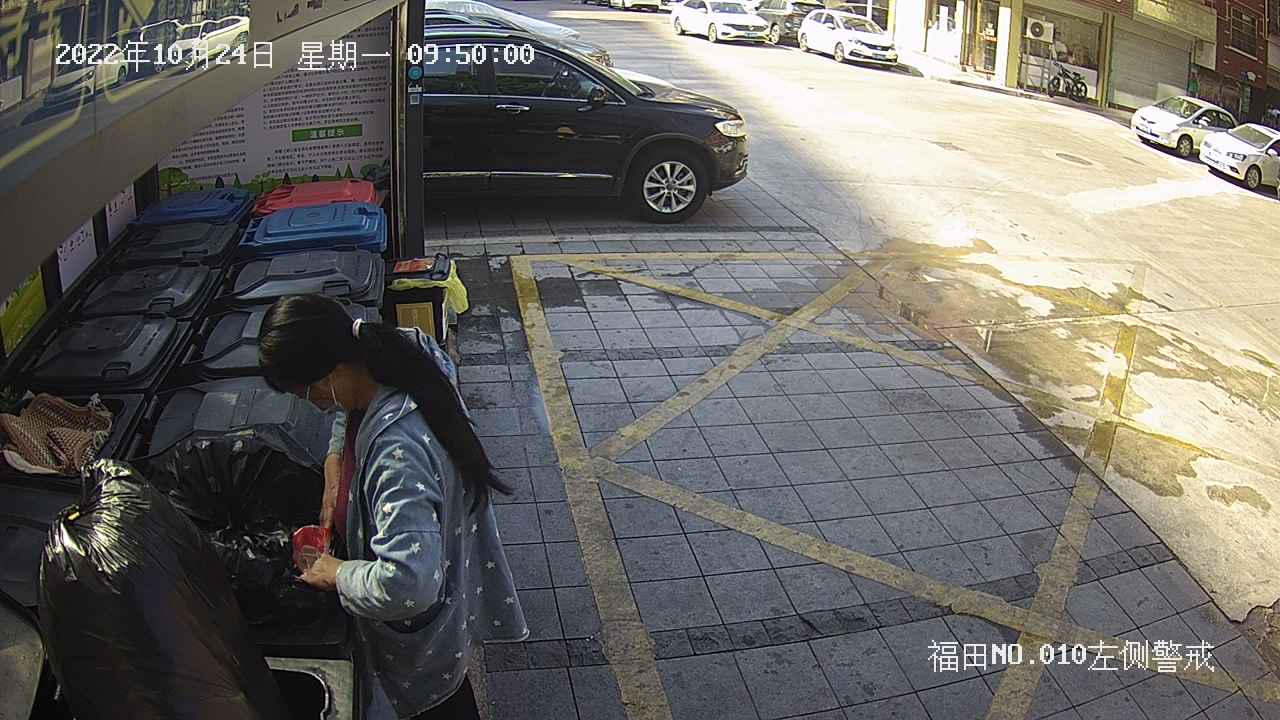person: (254, 287, 542, 720)
